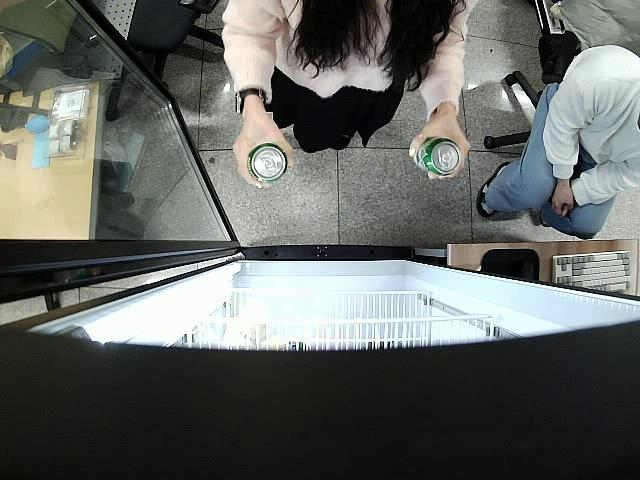12_chilsungCider: (414, 136, 461, 176), (247, 142, 288, 183)
